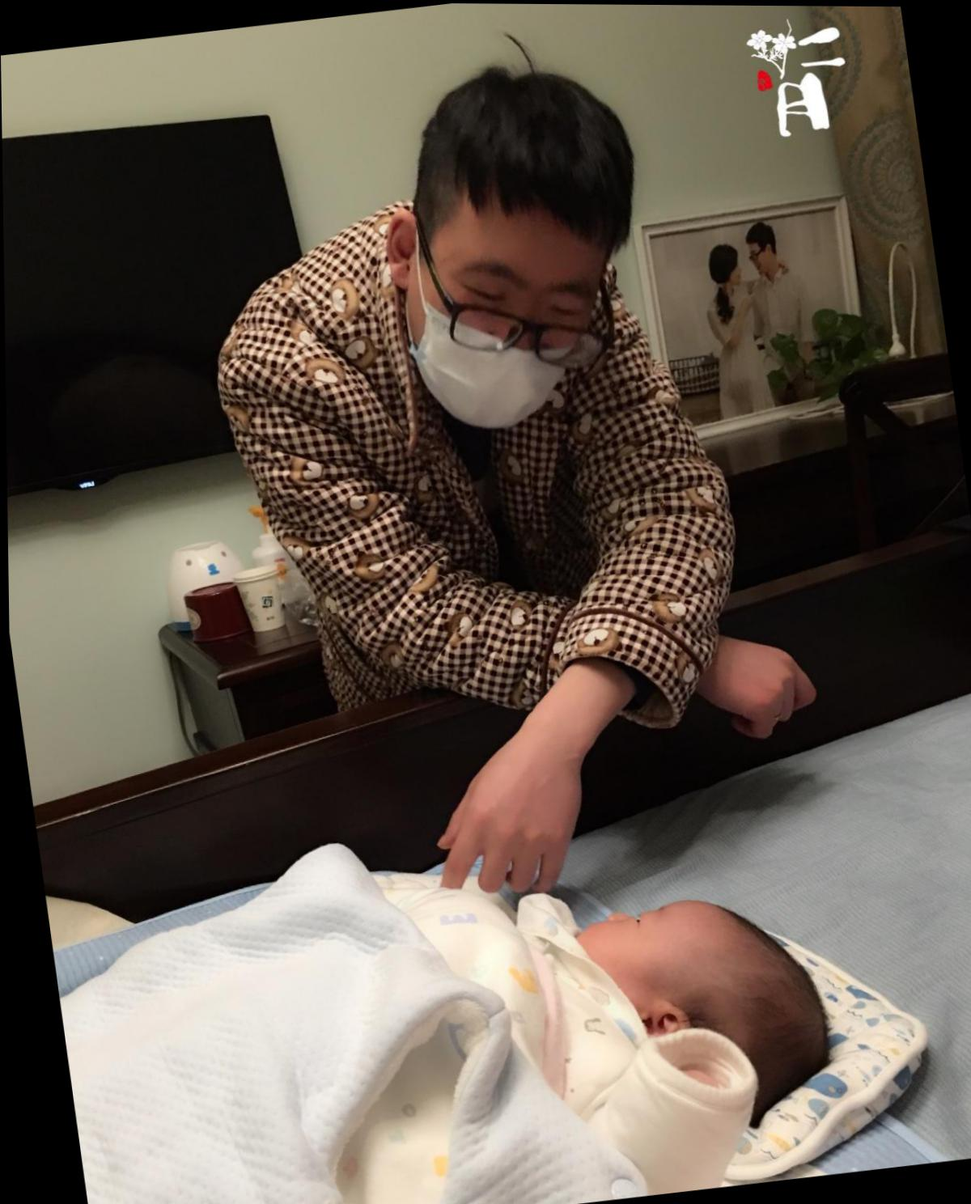NONE: (536, 891, 719, 1044), (748, 237, 778, 275), (724, 260, 744, 285)
WRONG: (408, 227, 621, 439)
